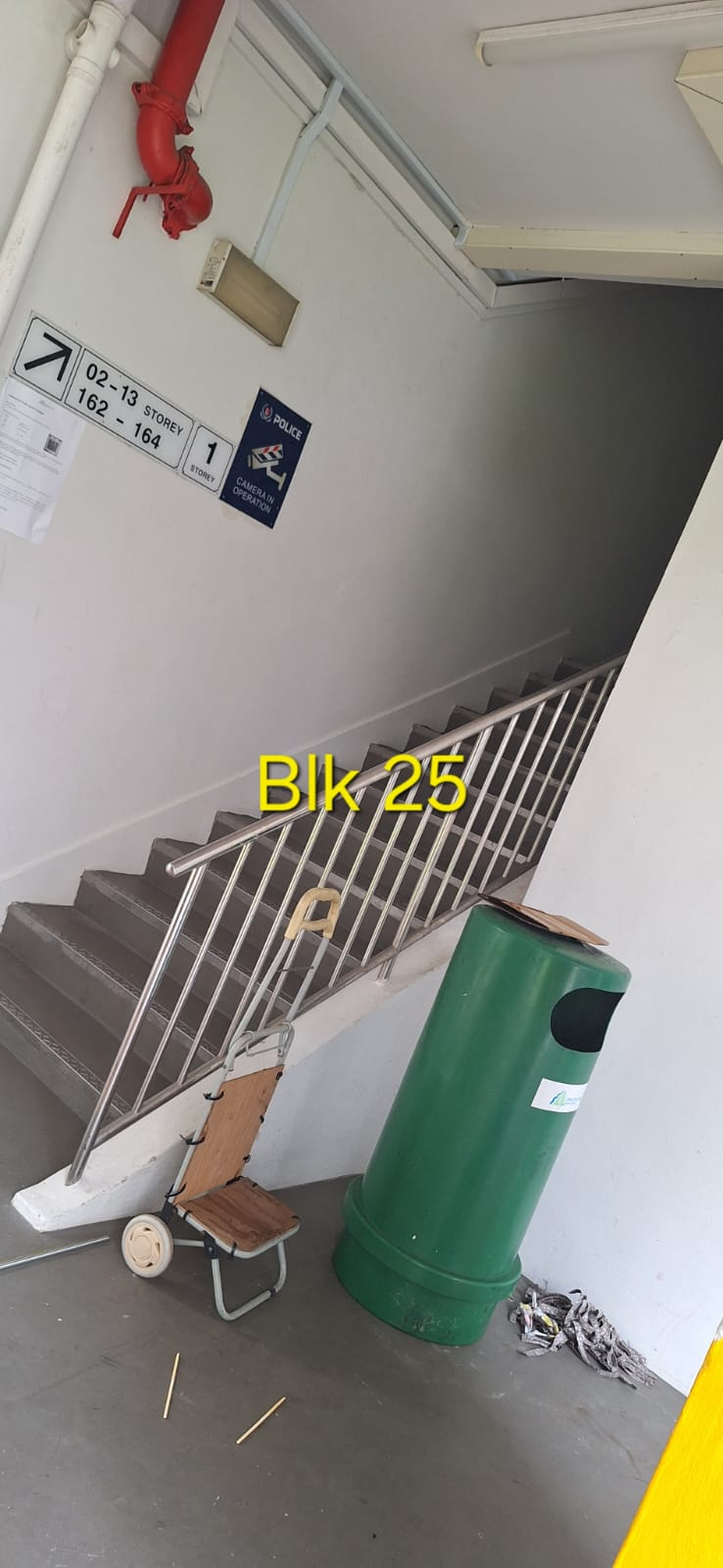bin_empty: (333, 906, 630, 1346), (121, 999, 298, 1322), (277, 885, 338, 968)
bulk_waste: (123, 887, 340, 1321)
